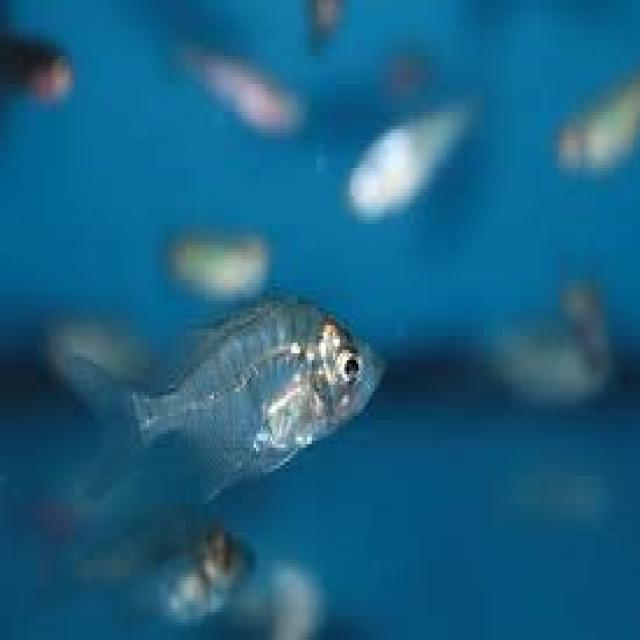Glass-Perchlet: (34, 265, 407, 518)
